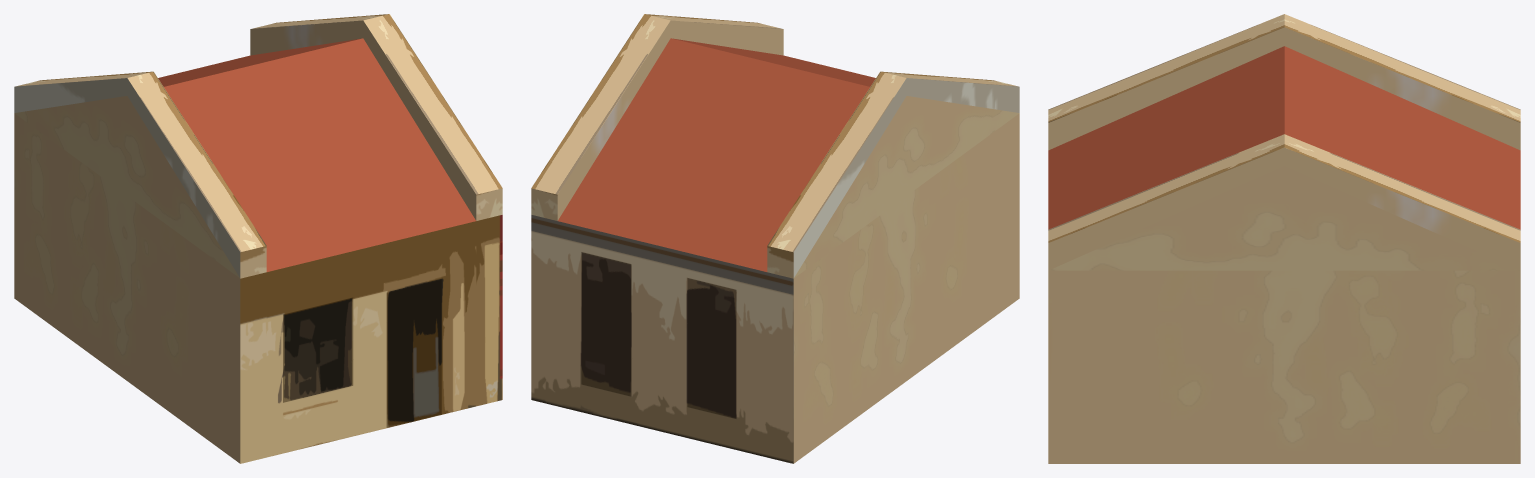
Rendered from SM_Building_Thin_02.fbx.
3 views of the same model, side by side, from view 1: azimuth 30°, elevation 25°; view 2: azimuth 150°, elevation 25°; view 3: azimuth 270°, elevation 25° (orthographic). The views are drawn at different scales.
Visible parts, largest first — view 1: SM_Building_Thin_02; view 2: SM_Building_Thin_02; view 3: SM_Building_Thin_02.
Part boxes in pixels (left/top/right/bottom): SM_Building_Thin_02: left=14, top=14, right=502, bottom=463; SM_Building_Thin_02: left=531, top=14, right=1019, bottom=463; SM_Building_Thin_02: left=1048, top=14, right=1520, bottom=463.
Bounding box in the file's own units: 5.07 × 5.6 × 7.57.
